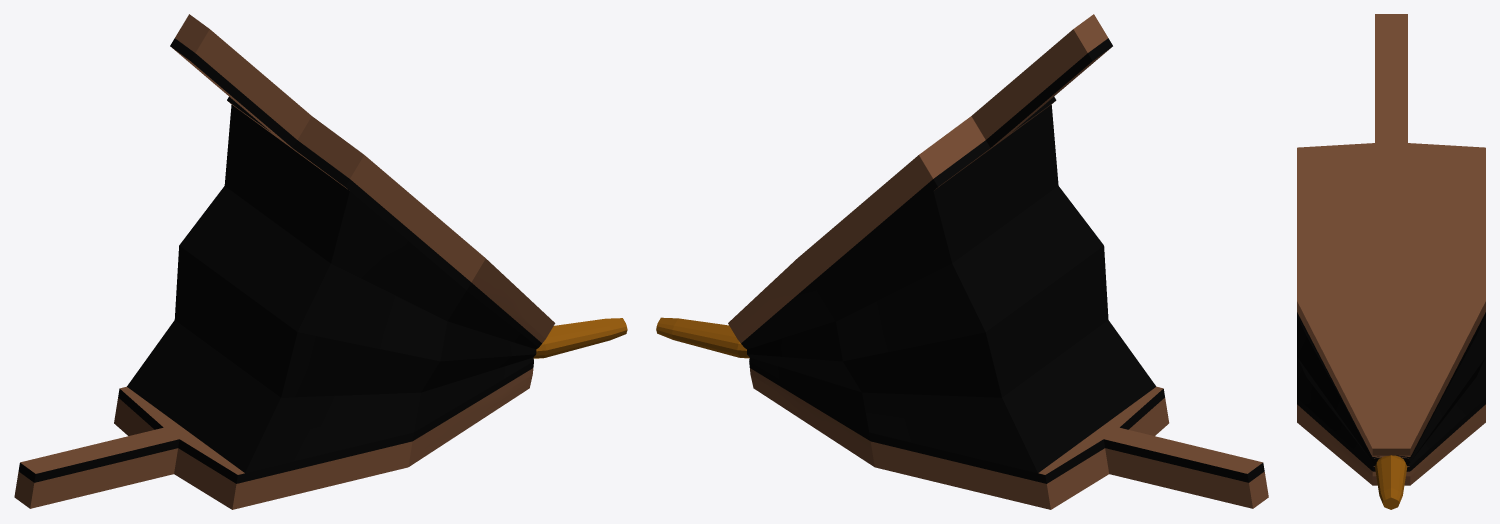
The model's file is Charlie_Bello_x2.fbx.
3 renders of one model, left to right at view 1: azimuth 30°, elevation 25°; view 2: azimuth 150°, elevation 25°; view 3: azimuth 270°, elevation 25°, orthographic. The views are drawn at different scales.
Parts seen in each view (by area): view 1: BellowMiddle, BellowBottom, BellowTop, BellowTube; view 2: BellowMiddle, BellowBottom, BellowTop, BellowTube; view 3: BellowTop, BellowMiddle, BellowBottom, BellowTube.
Boxes of the visible parts, bbox=[...] form: BellowMiddle: bbox=[127, 104, 538, 473]; BellowBottom: bbox=[14, 361, 533, 509]; BellowTop: bbox=[170, 14, 555, 347]; BellowTube: bbox=[533, 318, 627, 358]; BellowMiddle: bbox=[744, 105, 1156, 472]; BellowBottom: bbox=[749, 361, 1268, 509]; BellowTop: bbox=[728, 14, 1112, 347]; BellowTube: bbox=[656, 317, 749, 358]; BellowTop: bbox=[1297, 14, 1485, 458]; BellowMiddle: bbox=[1297, 316, 1485, 466]; BellowBottom: bbox=[1297, 398, 1485, 485]; BellowTube: bbox=[1375, 455, 1407, 509].
Bounding box in the file's own units: 1523 × 1064 × 520.
